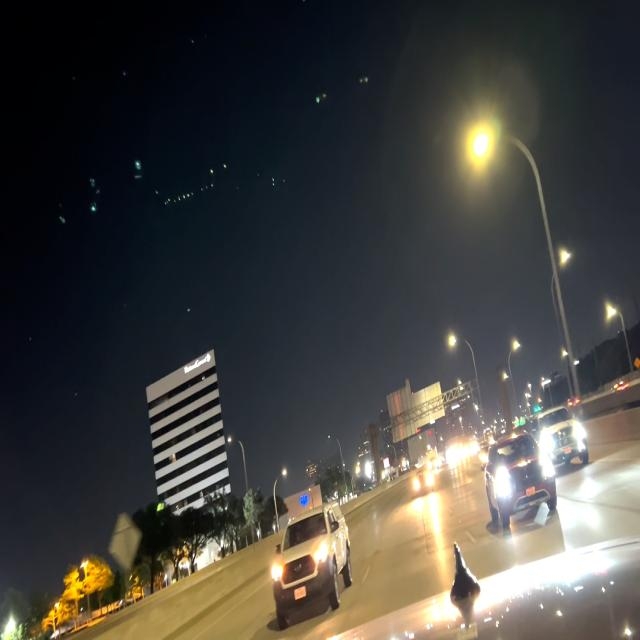back-of-sign: (386, 378, 445, 445), (109, 510, 142, 569)
